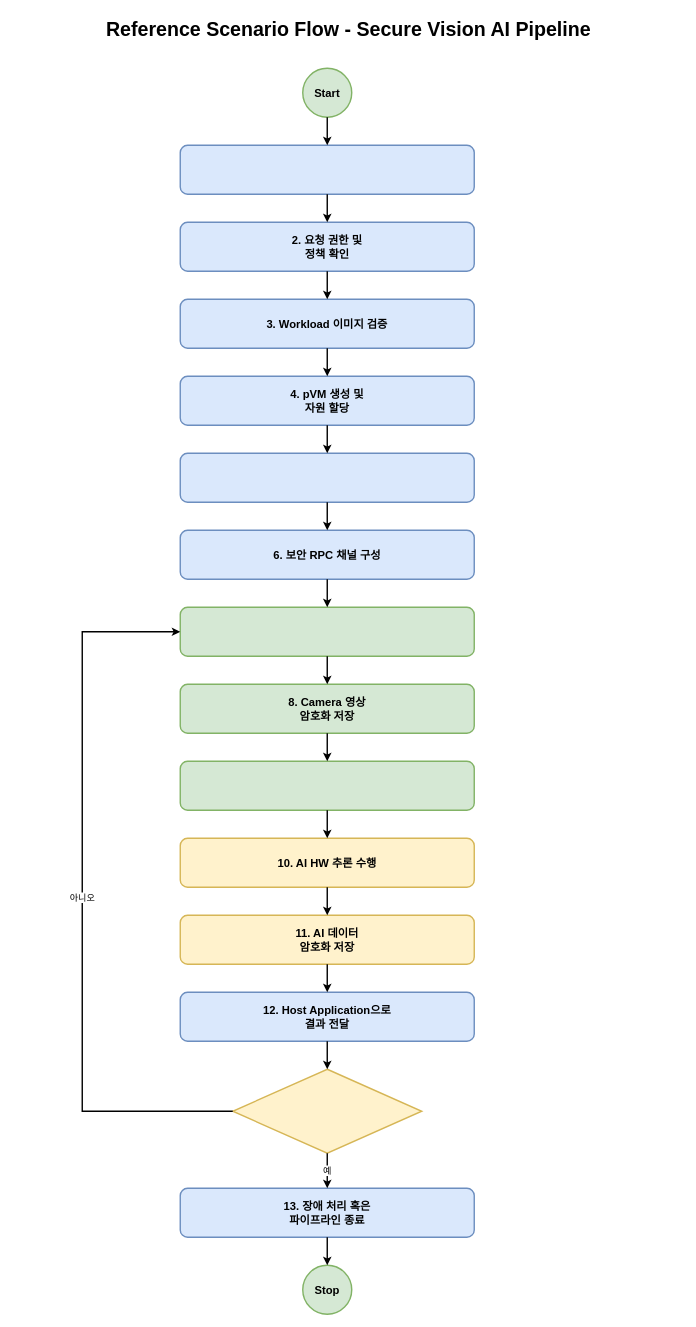
Some shapes in this 696 by 1327 pixel diagram are drawn without their labels. Here are the shapes that lost their labels. From the top down, the centre of each, then its label:
At point 327,169: "1. Host Application이 파이프라인 시작 요청".
At point 327,477: "5. Workload 탑재 및 실행".
At point 327,631: "7. Camera HW 캡쳐 수행".
At point 327,785: "9. Camera 영상 프레임 전달".
At point 327,1111: "Application이 pVM 종료 명령을 보냈는가?".
